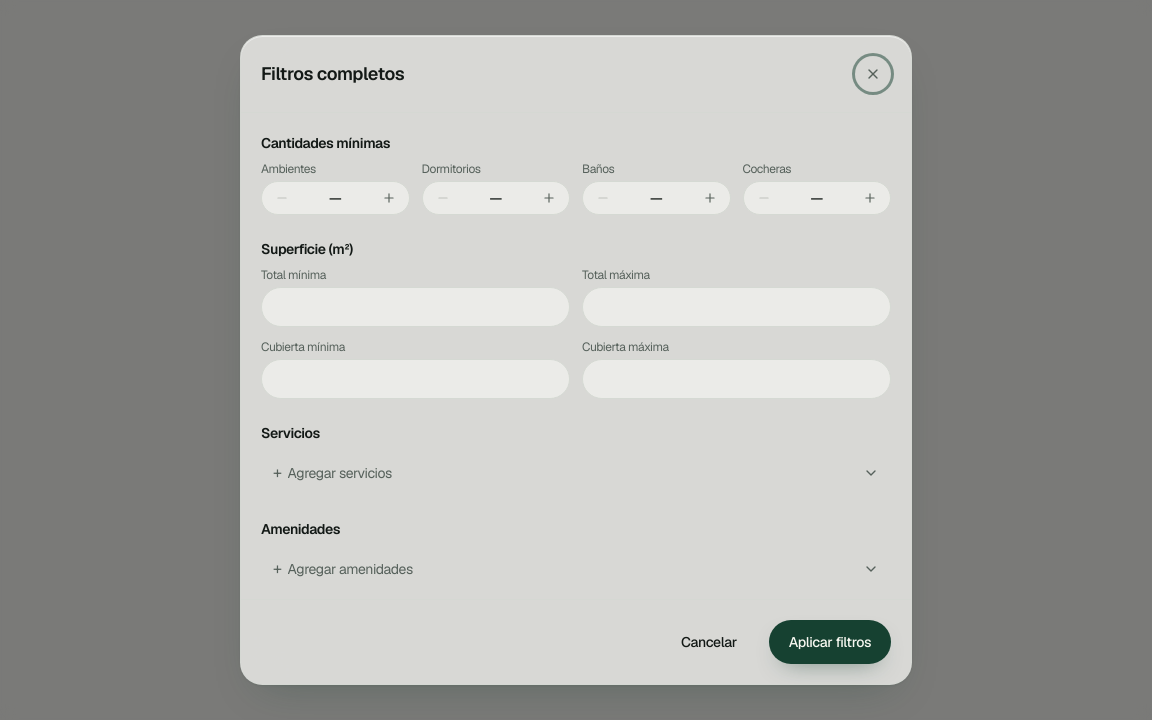
it: SearchResultsAdvancedFilters › min-count steppers › + on a dash stepper sets the value to 1 (not 0)
Click the button named "sumar ambientes" at x=388, y=198, box [372,182,404,214]
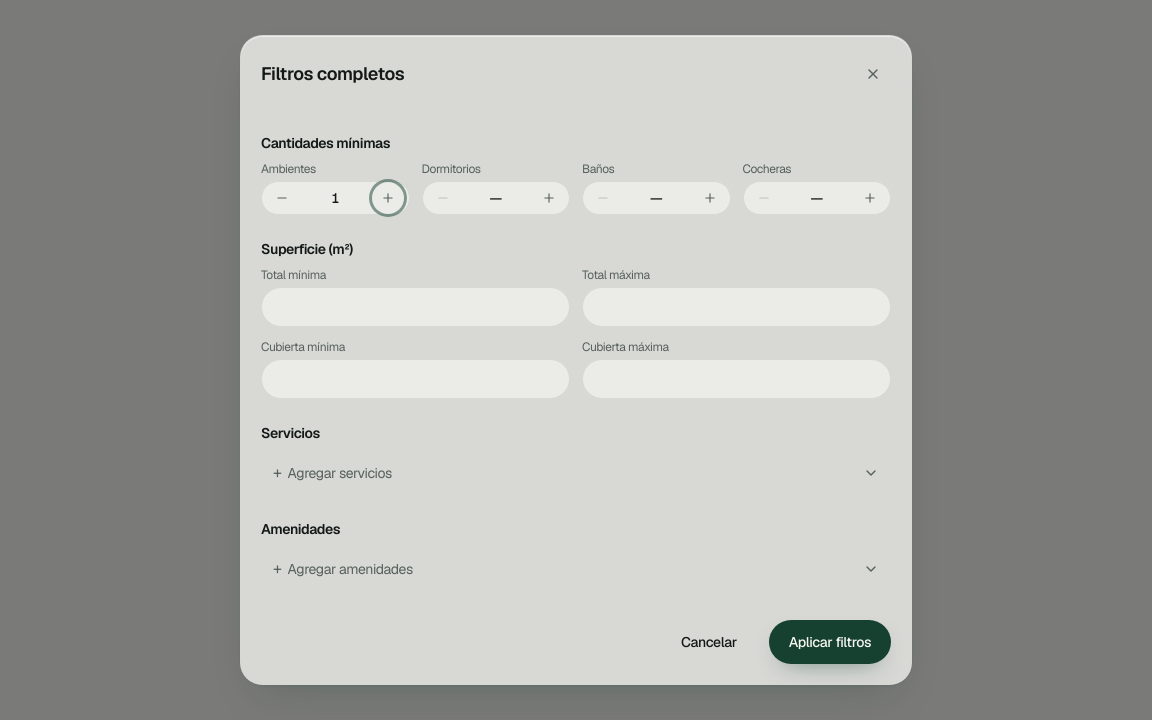
Expected: the text with test id "adv-rooms-value" reads "1", [331,189,339,207]
